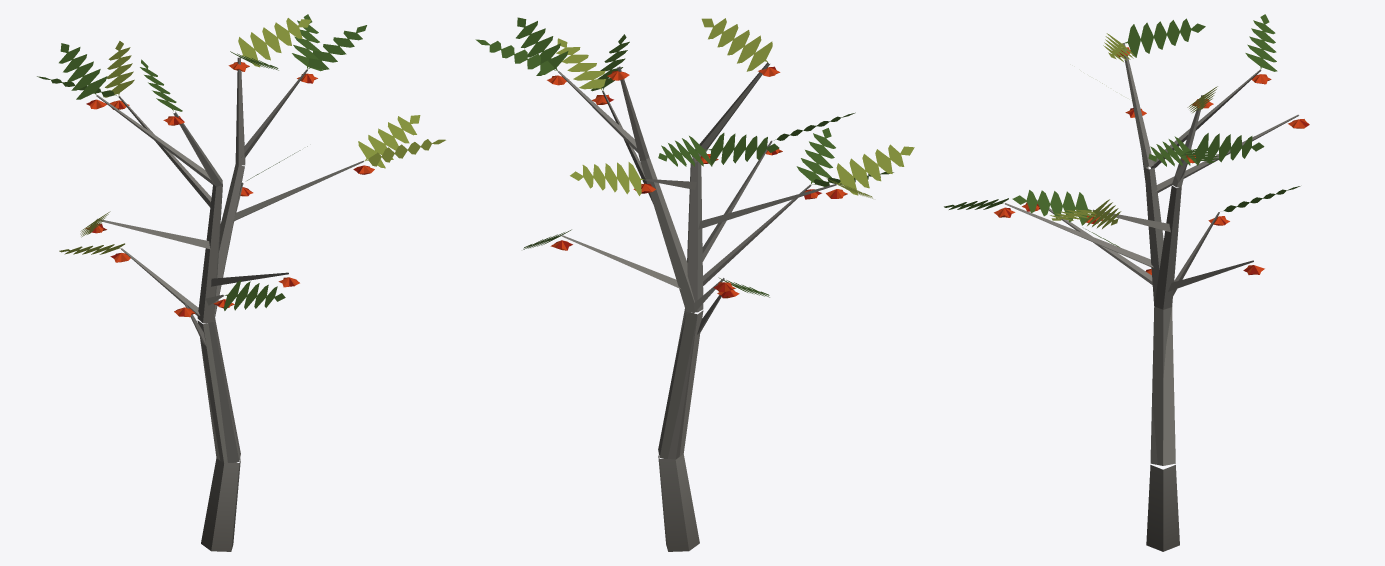
The model's file is rowan.glb.
The picture shows the model from 3 angles, left to right: view 1: azimuth 30°, elevation 25°; view 2: azimuth 150°, elevation 25°; view 3: azimuth 270°, elevation 25°; orthographic projection. The views are drawn at different scales.
Parts seen in each view (by area): view 1: rowan; view 2: rowan; view 3: rowan.
Boxes of the visible parts, box(x1,y1,x2,y2) form: rowan: box(37, 14, 445, 551); rowan: box(475, 17, 914, 551); rowan: box(944, 14, 1309, 551).
Bounding box in the file's own units: 3.91 × 4.9 × 3.85.
